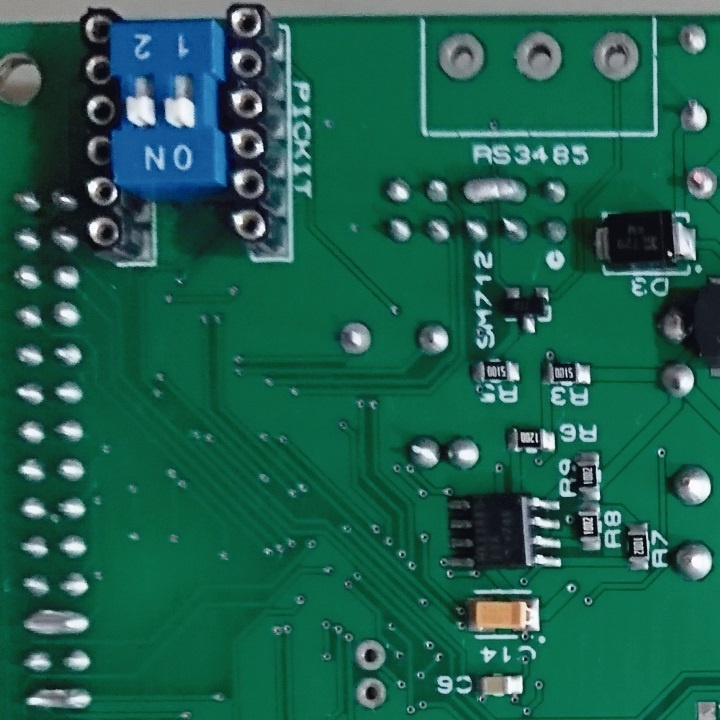F: (432, 29, 488, 86), (511, 28, 563, 85), (592, 26, 640, 86), (336, 315, 373, 363), (350, 675, 393, 714), (676, 95, 713, 138), (675, 18, 711, 61), (679, 163, 719, 201), (351, 638, 390, 675)
P: (459, 172, 530, 211), (19, 607, 91, 641), (24, 684, 95, 712)
